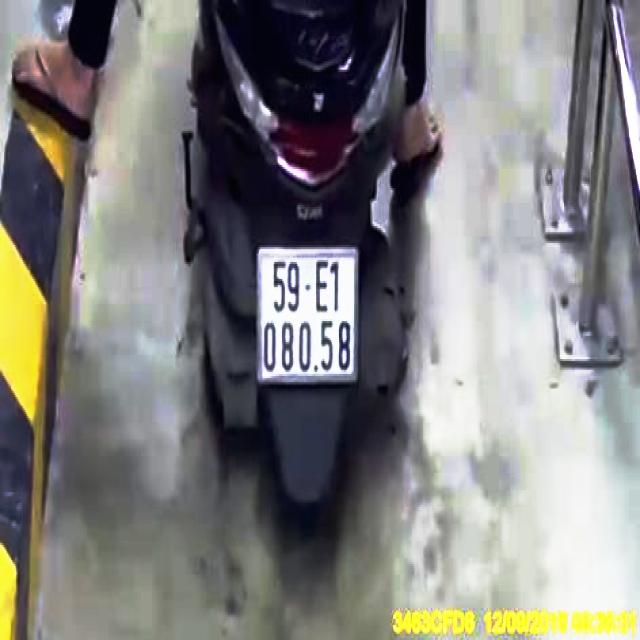license_plate: (262, 247, 358, 380)
